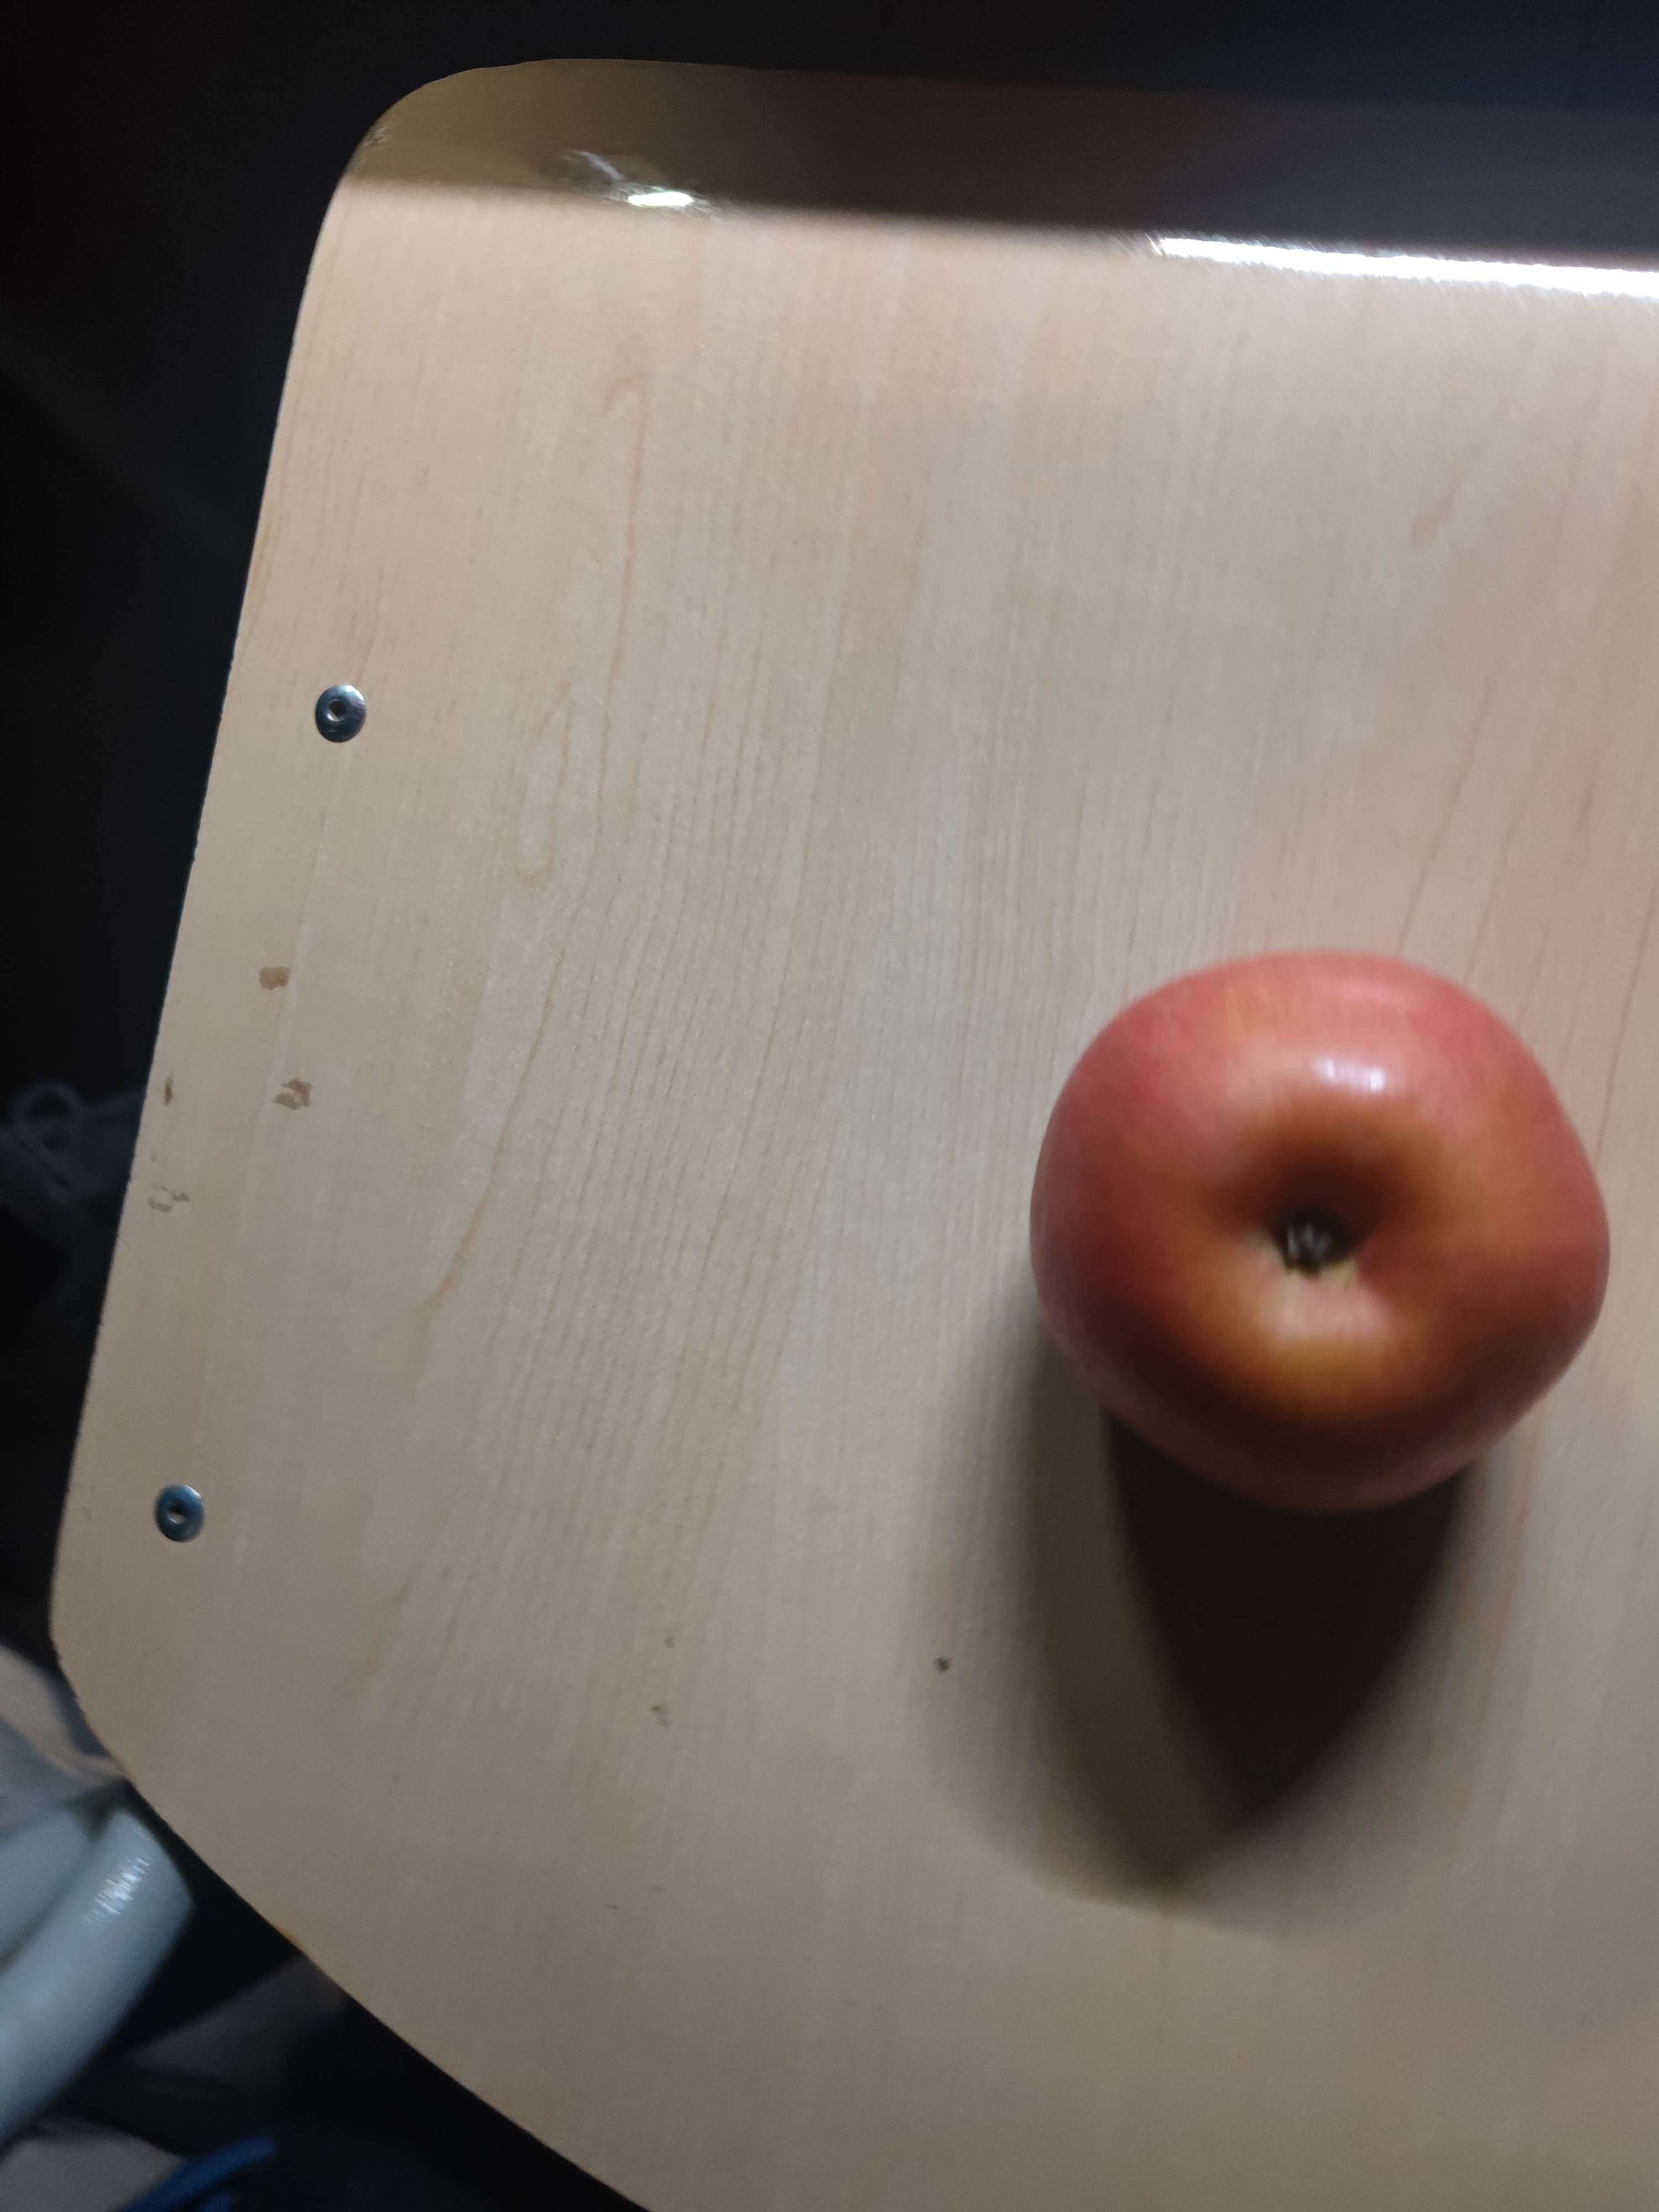apple: (1028, 954, 1617, 1521)
